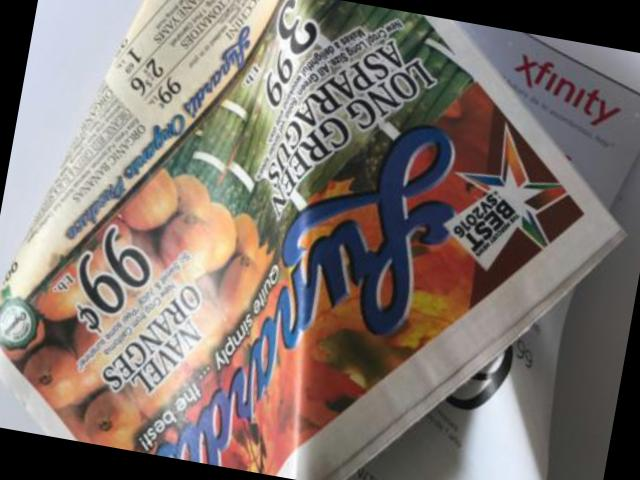cardboard paper: (0, 0, 620, 480)
